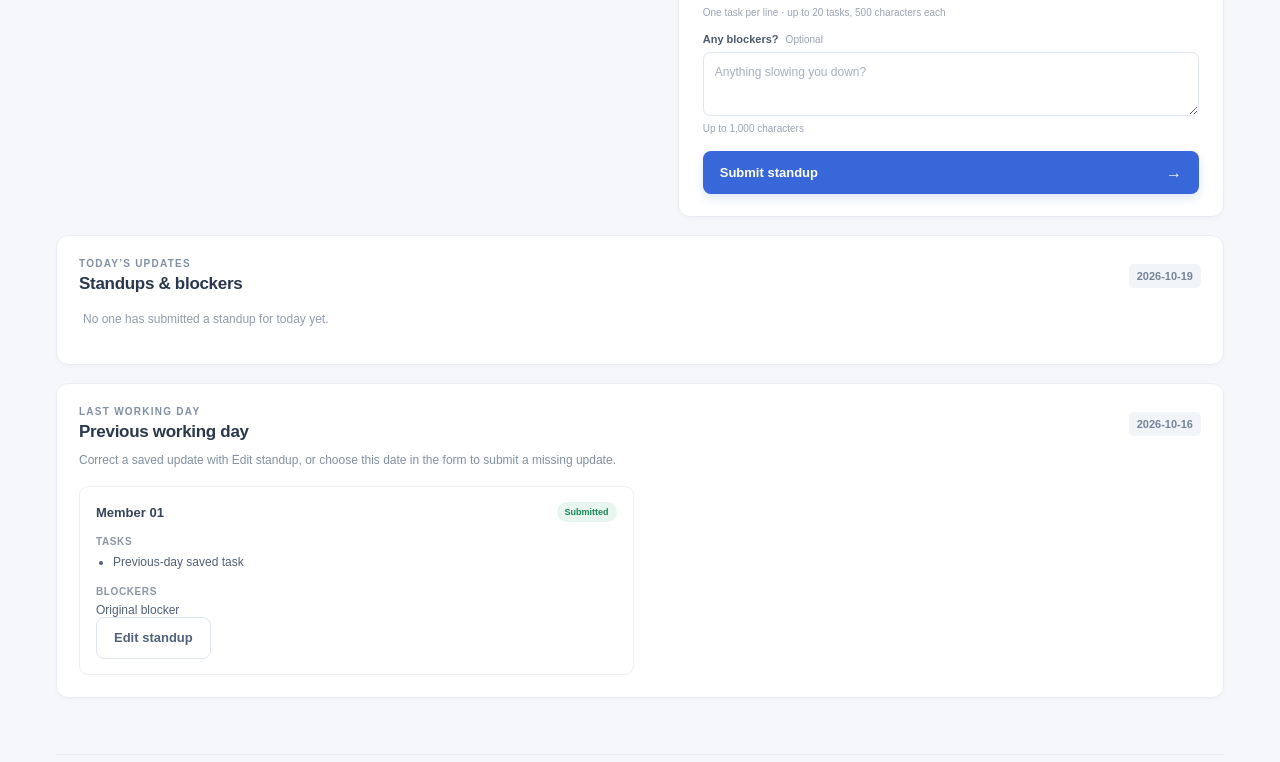
standup UI › prevents a second save while a correction is in flight
(page scrolled)
Click the button with aria-label "Edit Member 01 standup for 2026-10-16". click: (153,638)
box: x1=96 y1=617 x2=211 y2=659
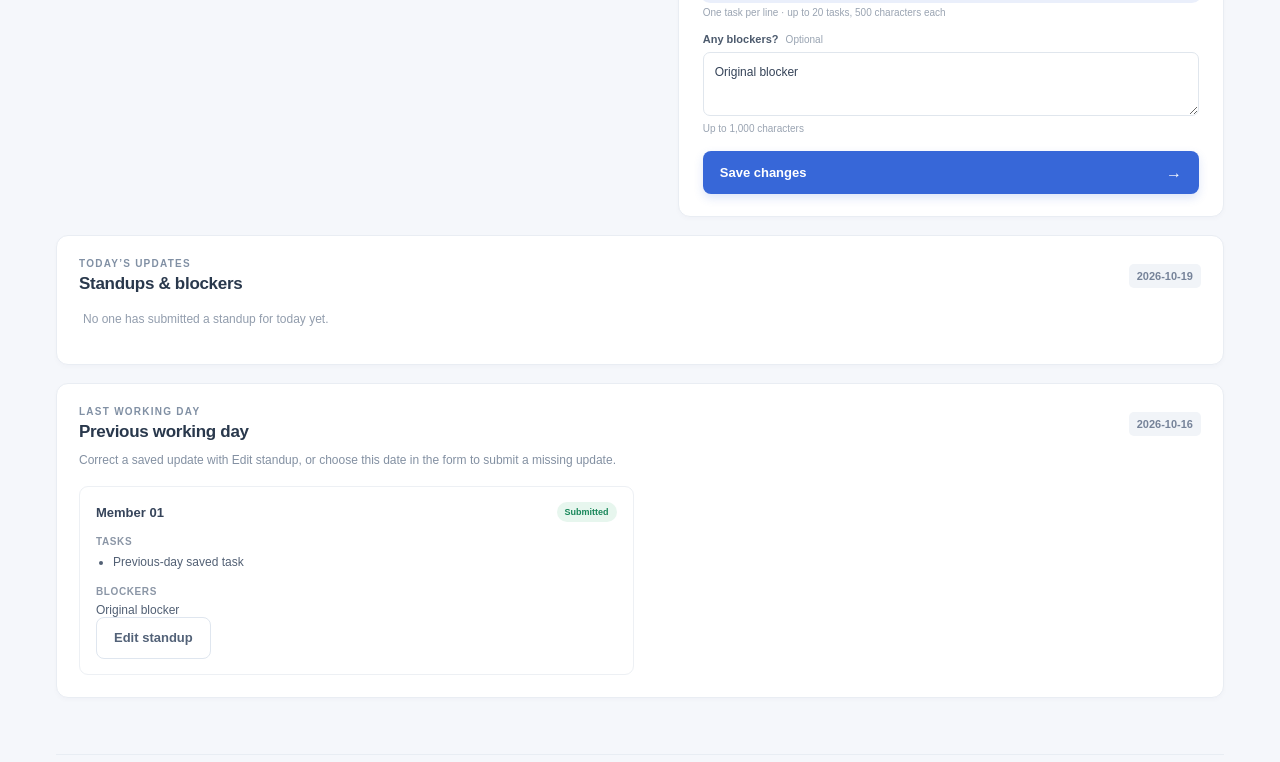
Click the button "Save changes →". click: (763,173)
box: x1=703 y1=151 x2=1199 y2=194
(page scrolled)
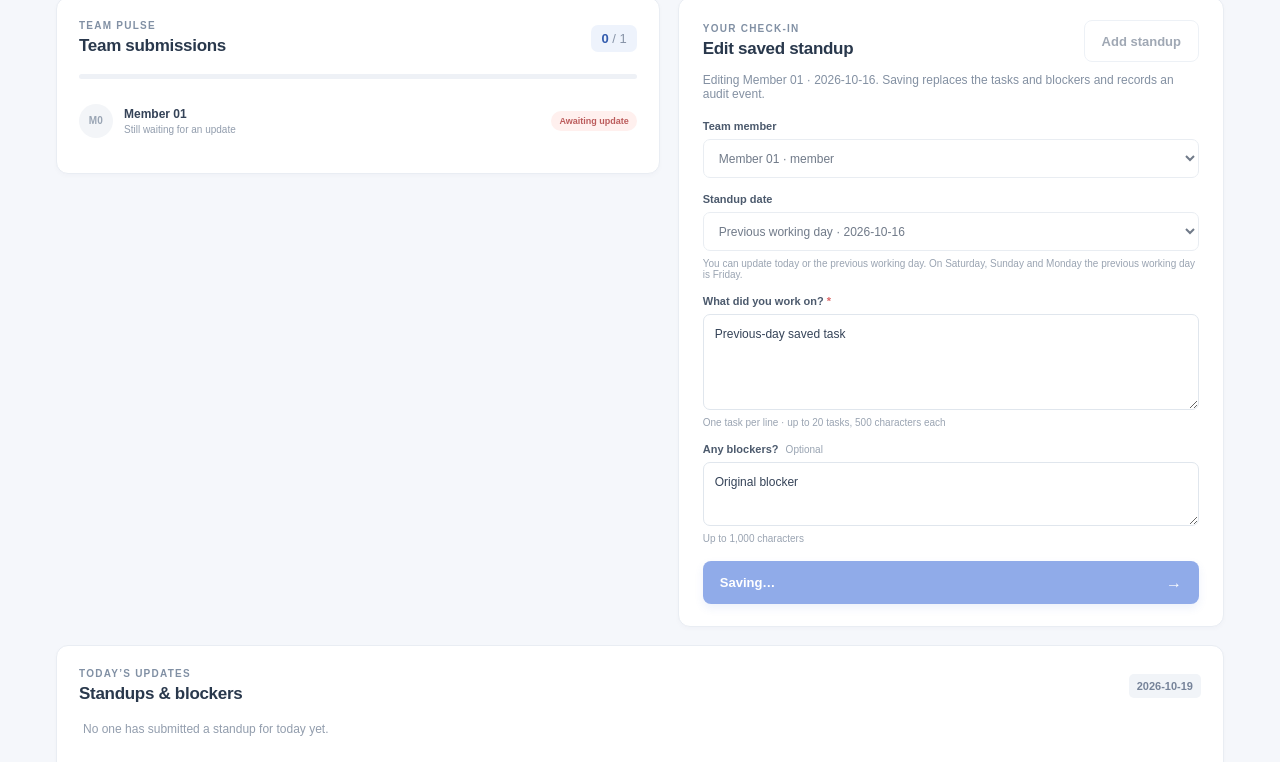
Expected: the button "Saving… →" is disabled, x1=703 y1=561 x2=1199 y2=604
Submit the form named "Saving", box x1=703 y1=120 x2=1199 y2=604
(page scrolled)
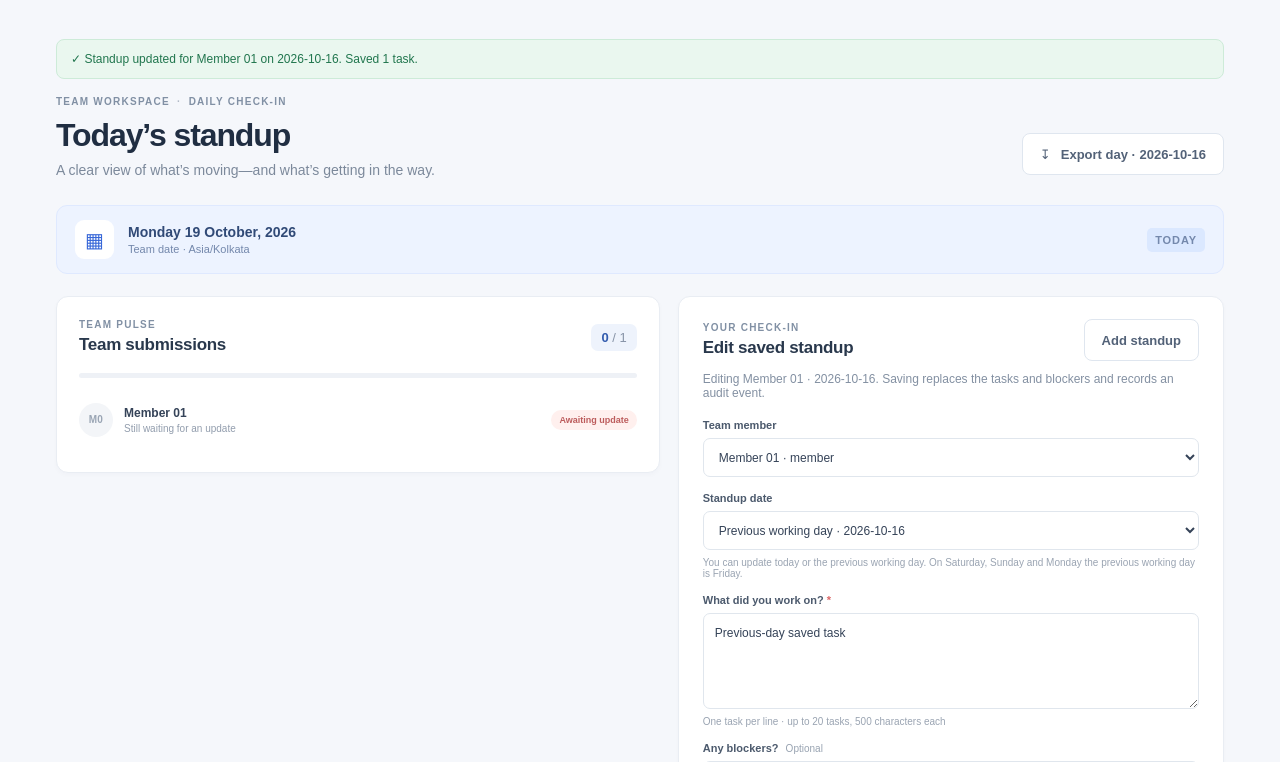
Expected: the text "✓ Standup updated for Member 01 on 2026-10-16. Saved 1 task." is shown, x1=56 y1=39 x2=1224 y2=79
